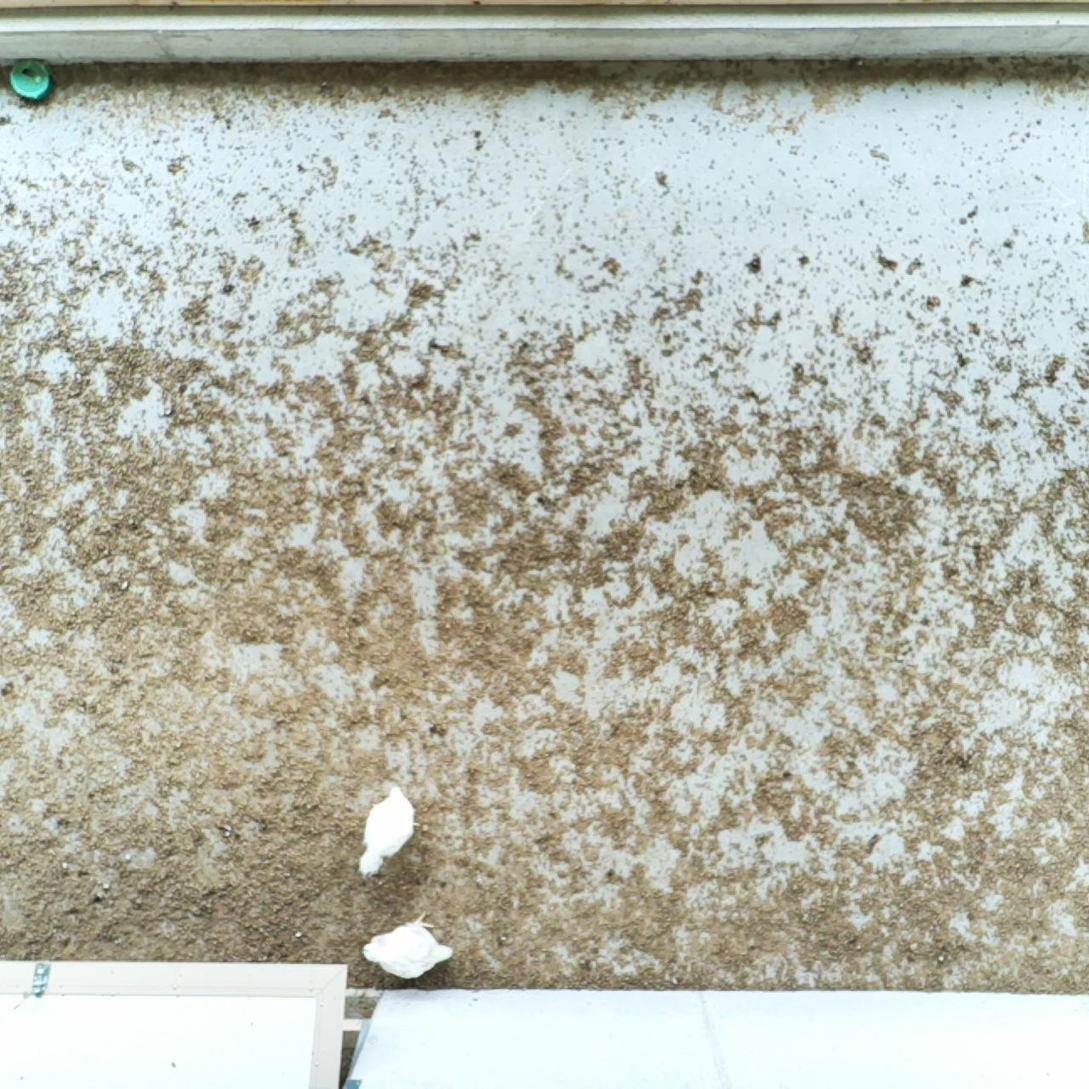chicken: (359, 910, 458, 980), (356, 778, 424, 877)
